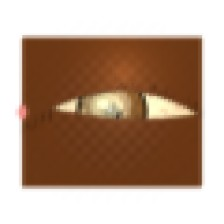corneal_ulcer: (80, 84, 132, 126)
